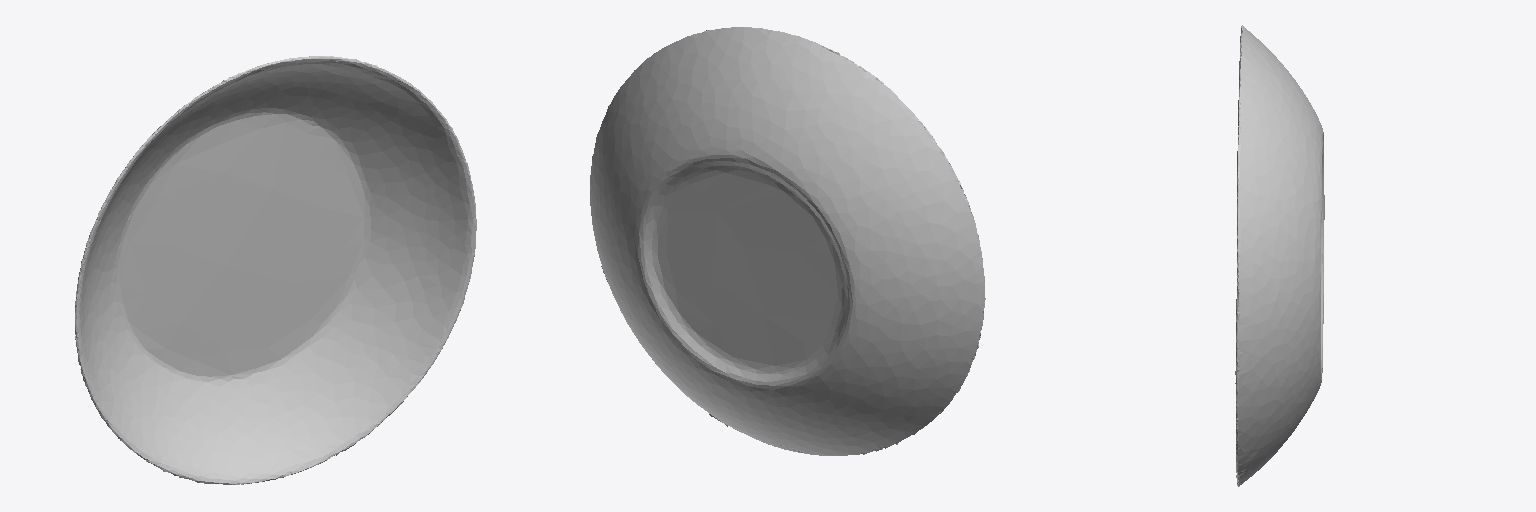
The model's file is plate.obj.
3 views of the same model, side by side, from view 1: azimuth 30°, elevation 25°; view 2: azimuth 150°, elevation 25°; view 3: azimuth 270°, elevation 25° (orthographic).
Parts seen in each view (by area): view 1: plate5; view 2: plate5; view 3: plate5.
Part boxes in pixels (x1,y1,x2,y2): plate5: (75, 56, 476, 484); plate5: (590, 27, 985, 455); plate5: (1235, 25, 1324, 486).
Size of the model in its own units: 0.177 by 0.1772 by 0.0343.